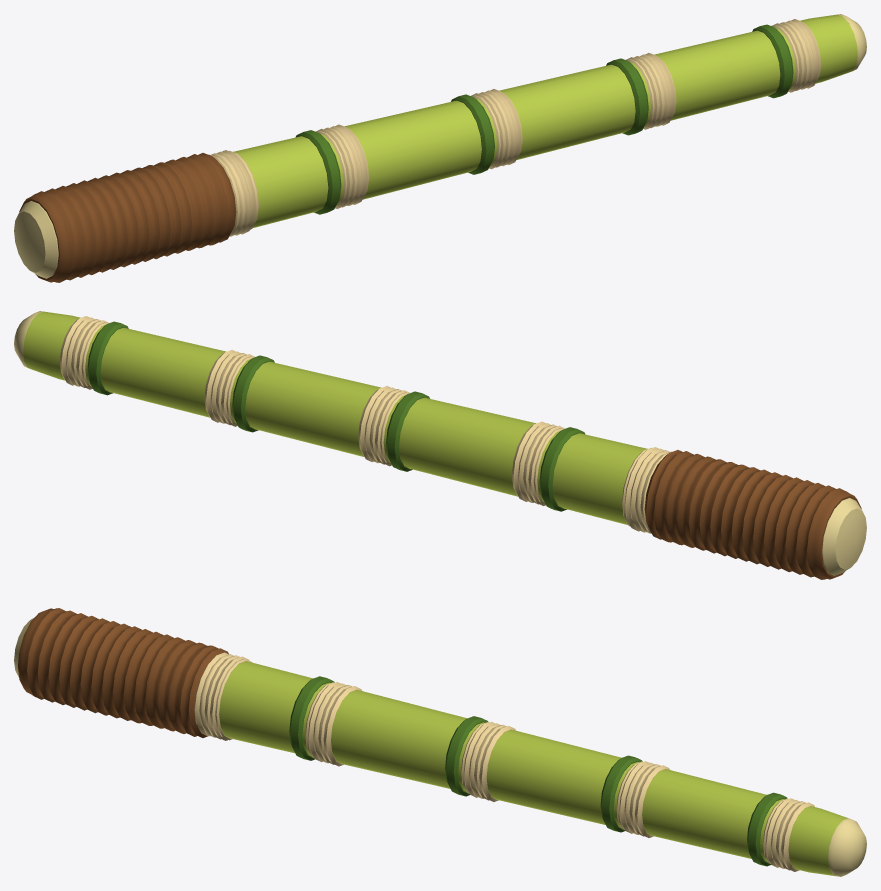
File: danda-bamboo.glb
3 renders of one model, top to bottom at view 1: azimuth 30°, elevation 25°; view 2: azimuth 150°, elevation 25°; view 3: azimuth 330°, elevation 25°, orthographic.
Visible parts, largest first — view 1: DandaBamboo_Cane, DandaBamboo_Grip, DandaBamboo_Binding, DandaBamboo_Nodes, DandaBamboo_Ends; view 2: DandaBamboo_Cane, DandaBamboo_Grip, DandaBamboo_Binding, DandaBamboo_Nodes, DandaBamboo_Ends; view 3: DandaBamboo_Cane, DandaBamboo_Grip, DandaBamboo_Binding, DandaBamboo_Nodes, DandaBamboo_Ends.
Boxes of the visible parts, <box> form: DandaBamboo_Cane: <box>233,14,857,227</box>; DandaBamboo_Grip: <box>19,153,236,282</box>; DandaBamboo_Binding: <box>209,19,821,236</box>; DandaBamboo_Nodes: <box>295,24,793,214</box>; DandaBamboo_Ends: <box>14,14,866,278</box>; DandaBamboo_Cane: <box>23,311,647,524</box>; DandaBamboo_Grip: <box>644,450,861,579</box>; DandaBamboo_Binding: <box>60,316,671,533</box>; DandaBamboo_Nodes: <box>87,321,585,511</box>; DandaBamboo_Ends: <box>14,311,866,575</box>; DandaBamboo_Cane: <box>219,661,847,876</box>; DandaBamboo_Grip: <box>18,608,228,737</box>; DandaBamboo_Binding: <box>194,652,814,871</box>; DandaBamboo_Nodes: <box>289,676,787,866</box>; DandaBamboo_Ends: <box>14,618,866,876</box>.
Size of the model in its own units: 4.6 by 0.45 by 0.45.
